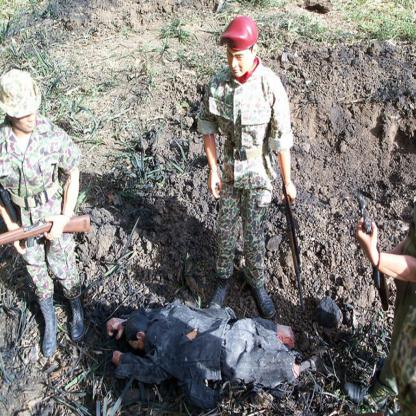face: (227, 43, 251, 79), (13, 99, 38, 132)
